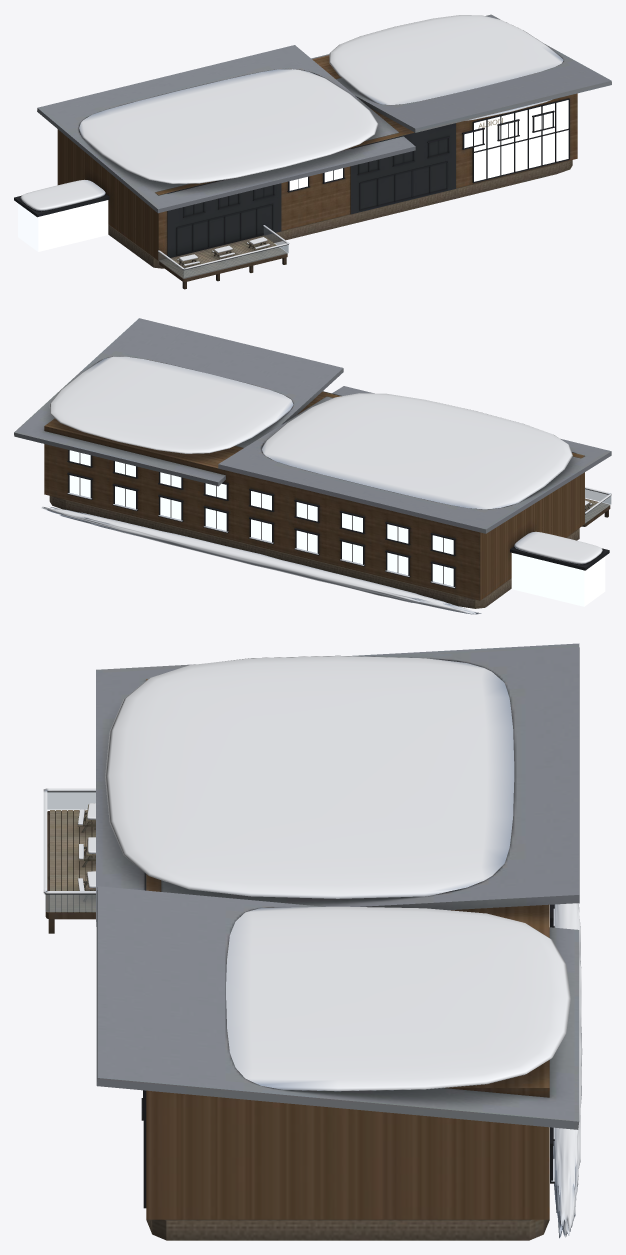
File: albion_lodge.glb
The picture shows the model from 3 angles, top to bottom: view 1: azimuth 30°, elevation 25°; view 2: azimuth 150°, elevation 25°; view 3: azimuth 270°, elevation 25°; orthographic projection. The views are drawn at different scales.
Visible parts, largest first — view 1: albion_lodge, albion_lodge_snow, albion_lodge_lit, albion_lodge_glass; view 2: albion_lodge, albion_lodge_snow, albion_lodge_lit, albion_lodge_glass; view 3: albion_lodge_snow, albion_lodge, albion_lodge_glass.
Part boxes in pixels (bbox=[...]): albion_lodge: bbox=[14, 14, 611, 289]; albion_lodge_snow: bbox=[20, 15, 563, 269]; albion_lodge_lit: bbox=[18, 100, 568, 251]; albion_lodge_glass: bbox=[158, 227, 288, 278]; albion_lodge: bbox=[14, 318, 611, 608]; albion_lodge_snow: bbox=[42, 356, 611, 614]; albion_lodge_lit: bbox=[69, 450, 605, 606]; albion_lodge_glass: bbox=[585, 489, 611, 523]; albion_lodge_snow: bbox=[43, 655, 582, 1238]; albion_lodge: bbox=[44, 643, 579, 1240]; albion_lodge_glass: bbox=[45, 792, 95, 911].
Bounding box in the file's own units: 58.8 × 10.43 × 26.7.
5 materials, 1 textured.
